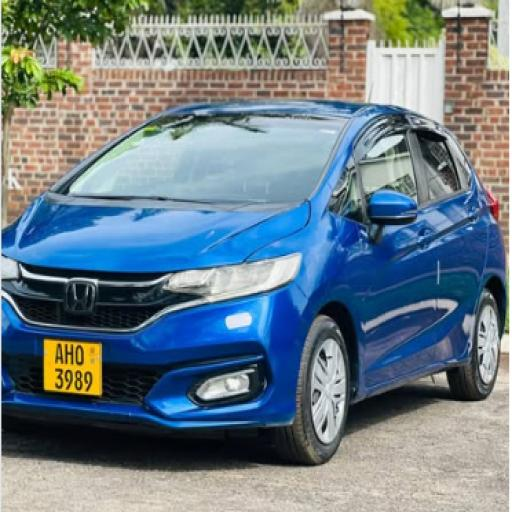number-plates: (42, 336, 100, 396)
